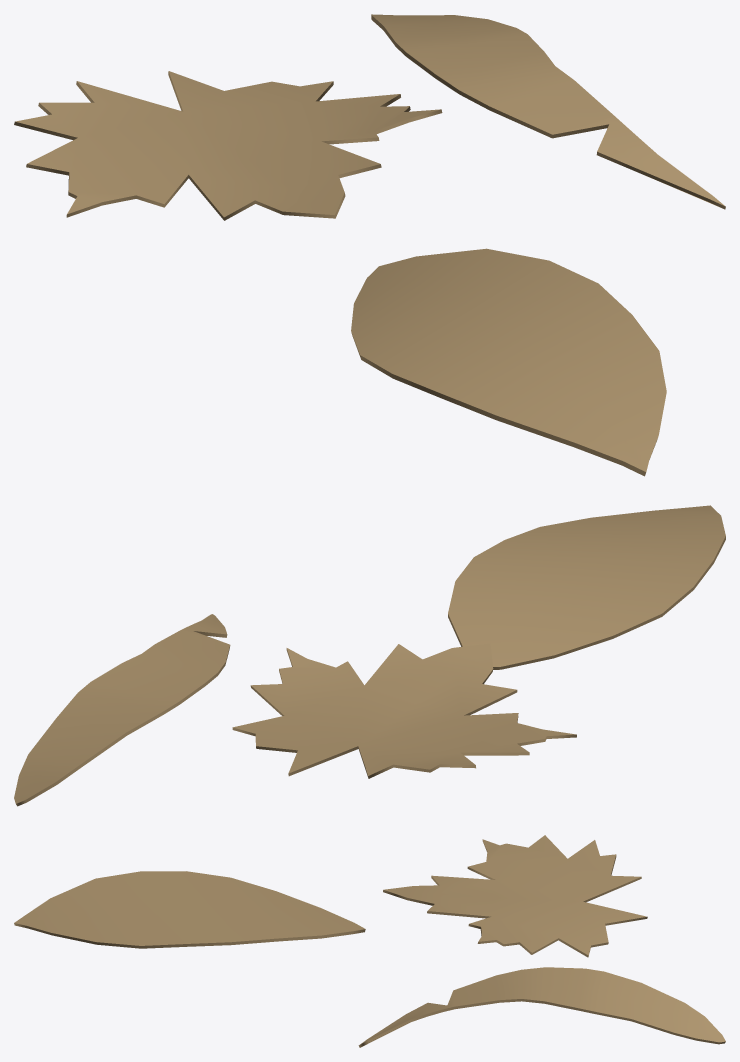
Rendered from Hojas.fbx.
3 renders of one model, top to bottom at view 1: azimuth 30°, elevation 25°; view 2: azimuth 150°, elevation 25°; view 3: azimuth 270°, elevation 25°, orthographic. The views are drawn at different scales.
Parts seen in each view (by area): view 1: HojaIñaki, HojaManu, HojaAria; view 2: HojaIñaki, HojaManu, HojaAria; view 3: HojaIñaki, HojaManu, HojaAria.
Part boxes in pixels (box(x1,y1,x2,y2)): HojaIñaki: box(351, 248, 666, 476); HojaManu: box(14, 71, 442, 220); HojaAria: box(371, 14, 725, 209); HojaIñaki: box(448, 505, 725, 669); HojaManu: box(232, 643, 576, 778); HojaAria: box(14, 614, 230, 806); HojaIñaki: box(14, 871, 365, 948); HojaManu: box(383, 835, 647, 957); HojaAria: box(358, 967, 725, 1047).
Size of the model in its own units: 1.53 by 0.2415 by 2.68.
